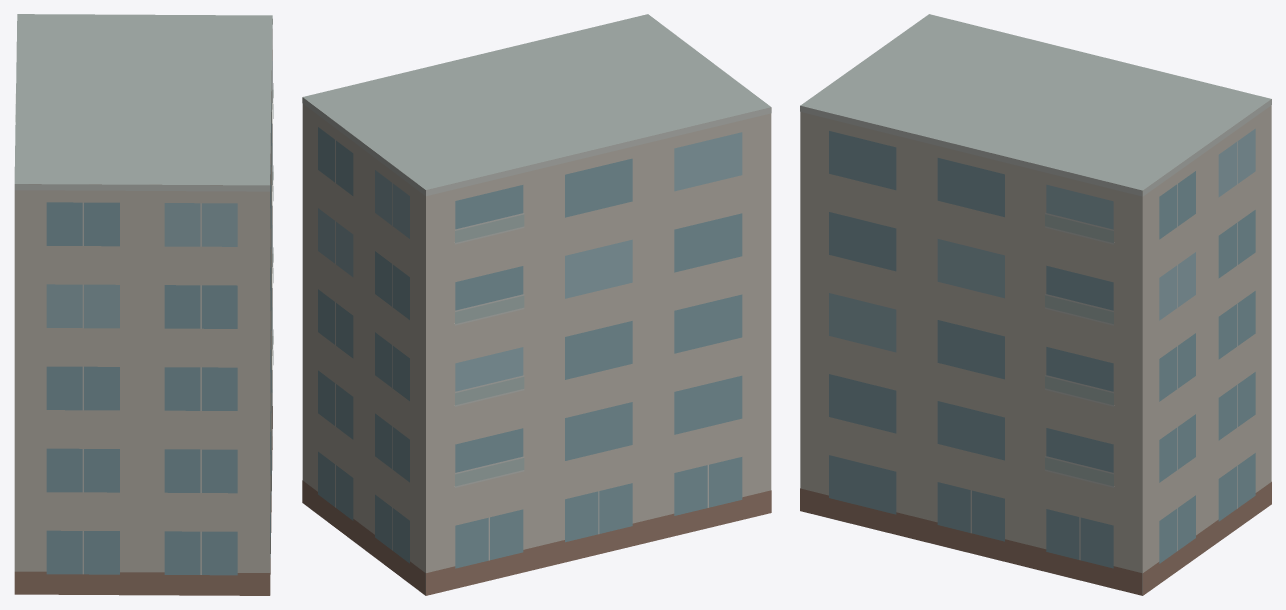
The model's file is survey-upis-32875981.glb.
3 views of the same model, side by side, from view 1: azimuth 30°, elevation 25°; view 2: azimuth 150°, elevation 25°; view 3: azimuth 270°, elevation 25° (orthographic).
Parts seen in each view (by area): view 1: survey-upis-32875981.tmp; view 2: survey-upis-32875981.tmp; view 3: survey-upis-32875981.tmp.
Part boxes in pixels (x1,y1,x2,y2): survey-upis-32875981.tmp: (14, 14, 273, 595); survey-upis-32875981.tmp: (302, 14, 771, 595); survey-upis-32875981.tmp: (800, 14, 1271, 595).
Bounding box in the file's own units: 15.02 × 16.07 × 16.95.
